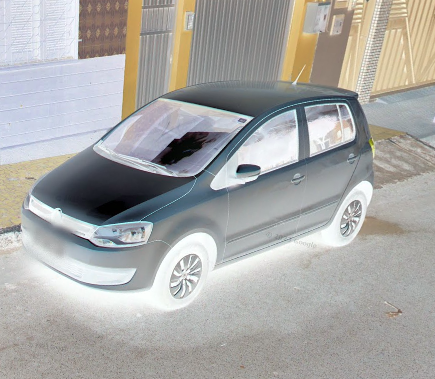car: (16, 62, 388, 313)
